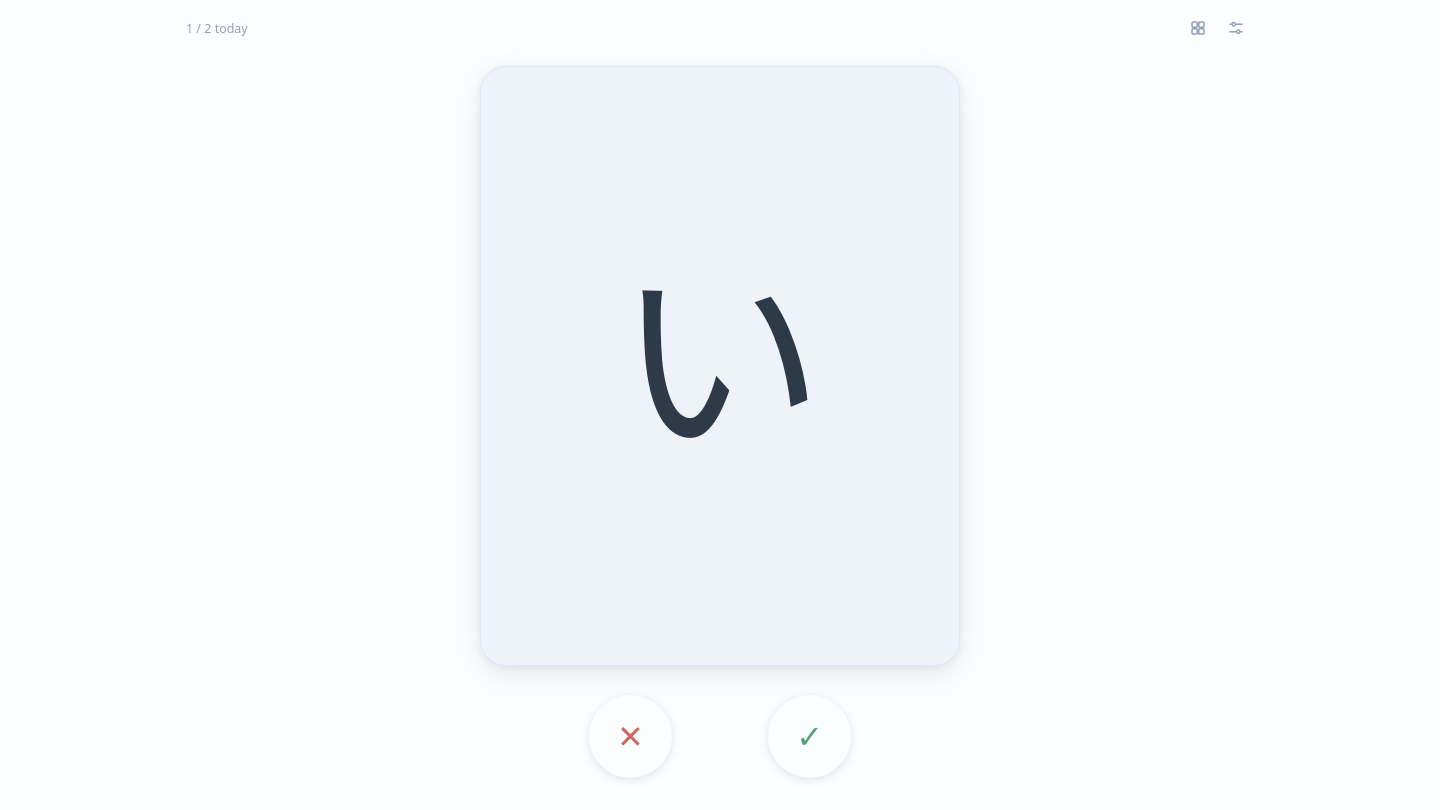
Test: typing test › swaps ✓ for an input, and a correct reading turns the card over to confirm
The width and height of the screenshot is (1440, 810).
Click the button named "I know this".
click(810, 736)  # box [768,695,851,778]
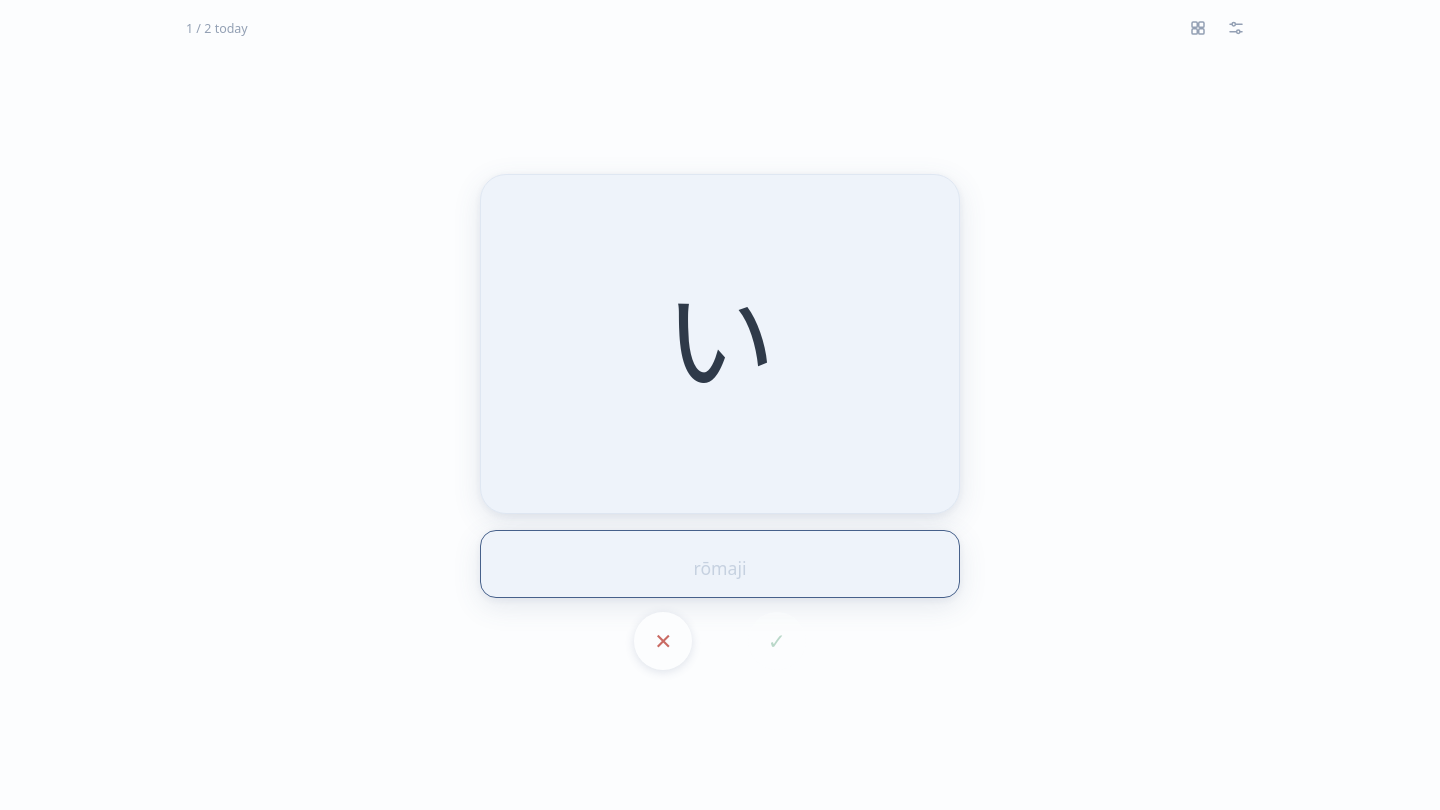
Expected: the text "1 / 2 today" is shown, [186,20,248,37]
Now the element with class "card-zone" has class "typing", box [480,174,960,670]
Type "i" into the field named "Type the reading in rōmaji".
click(720, 564); type("i")  # box [480,530,960,598]
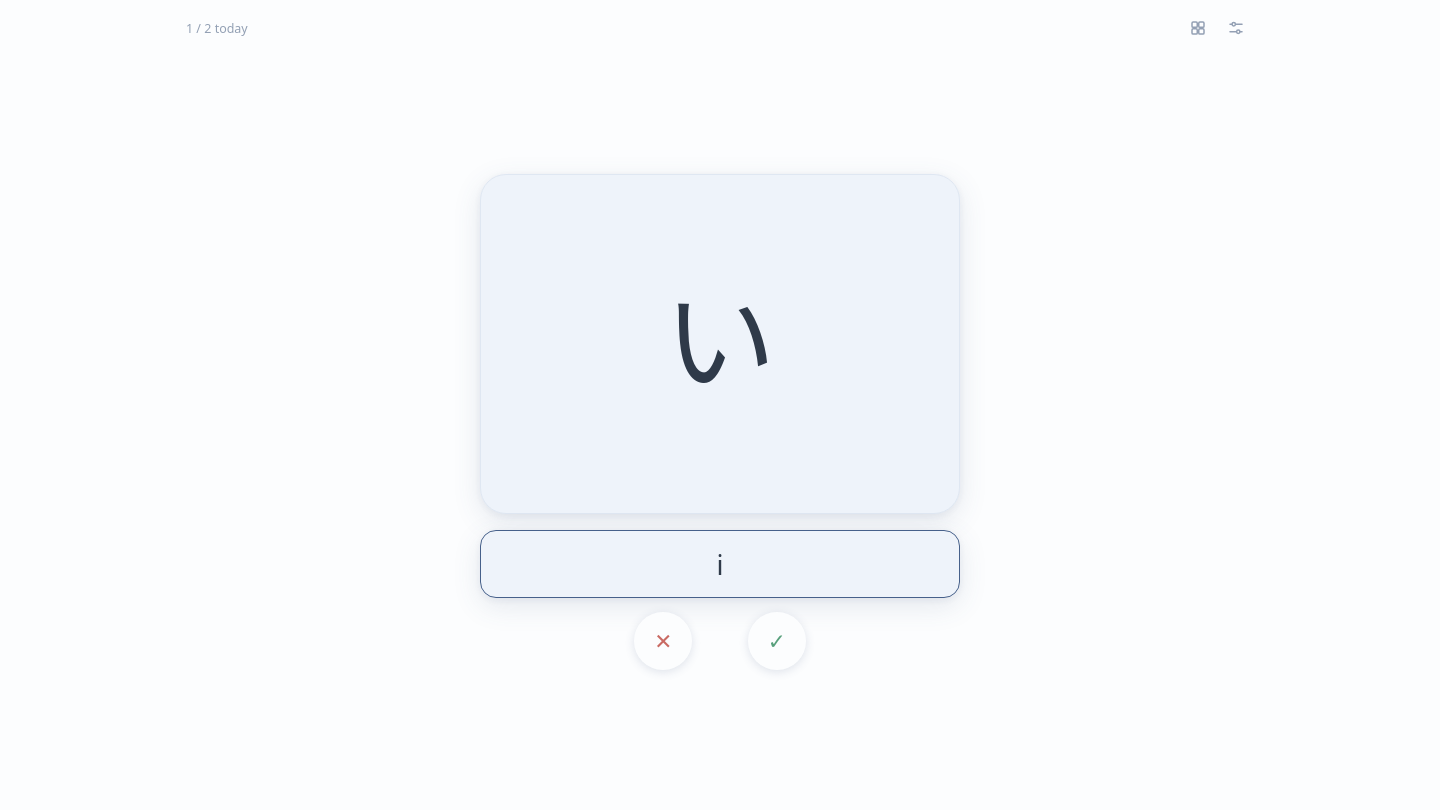
Click the button named "Check my answer".
click(777, 641)  # box [748,612,806,670]
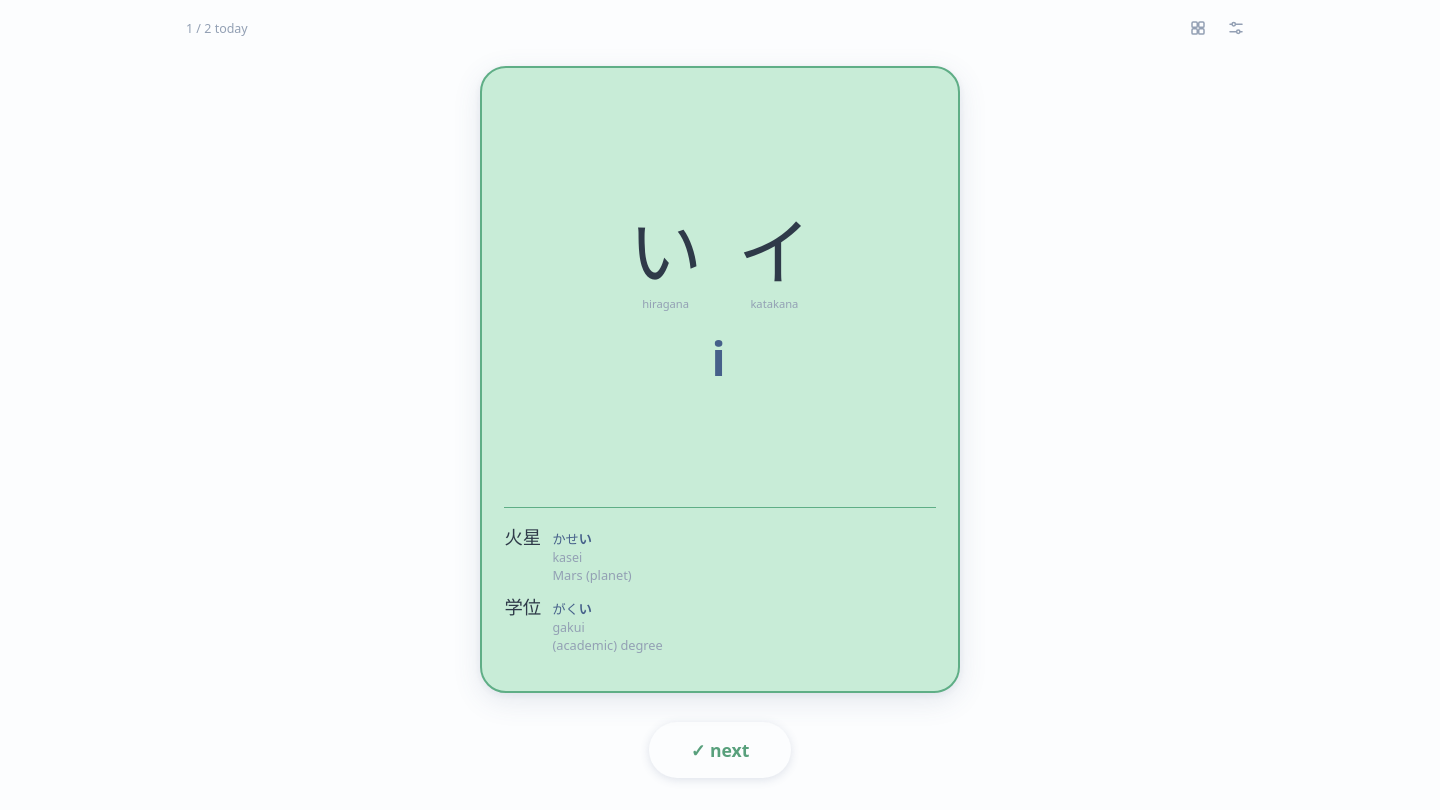
Expected: the text "1 / 2 today" is shown, [186,20,248,37]
Now the element named "Flashcard" has class "verdict-right", box [480,66,960,693]
Now the element named "Flashcard" has class "flipped", box [480,66,960,693]
Click the button "✓ next".
click(720, 750)  # box [649,722,791,778]
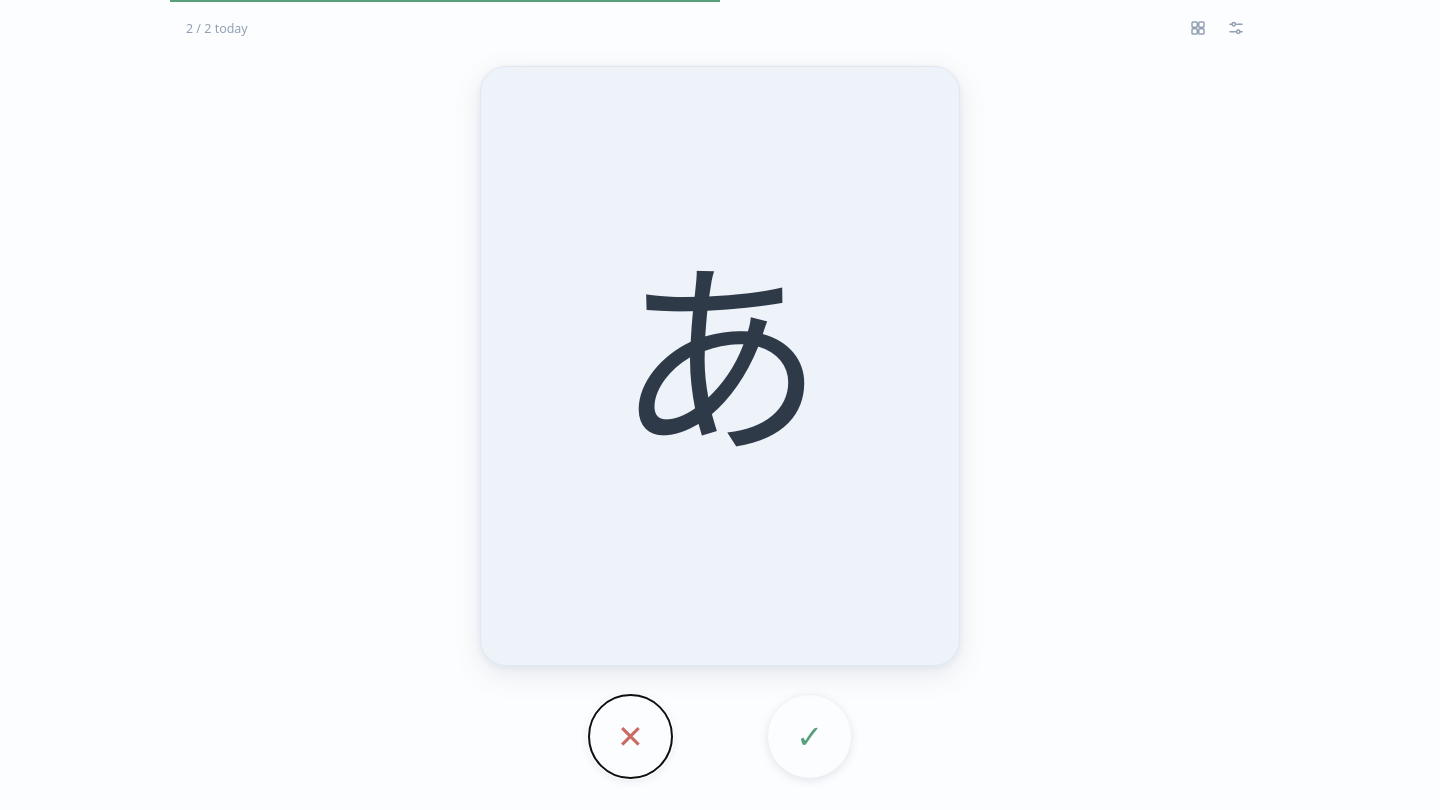
Now the text "2 / 2 today" is shown, box [186,20,248,37]
